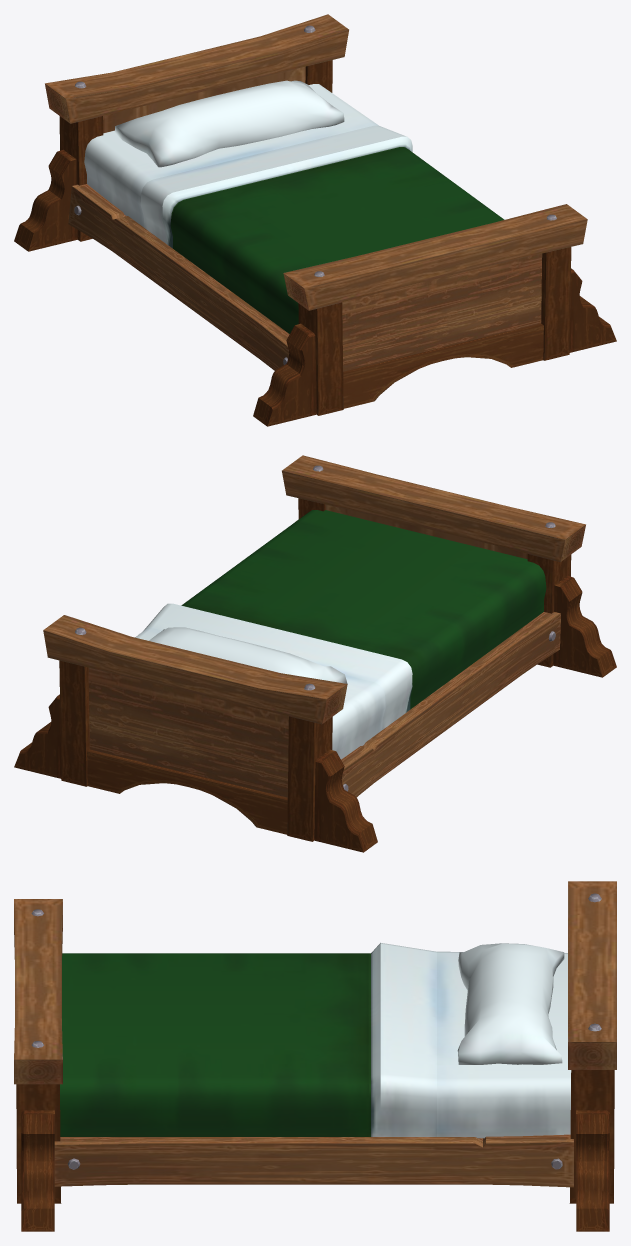
Rendered from Bed_Twin2.gltf.
The picture shows the model from 3 angles, top to bottom: view 1: azimuth 30°, elevation 25°; view 2: azimuth 150°, elevation 25°; view 3: azimuth 270°, elevation 25°; orthographic projection. The views are drawn at different scales.
Parts seen in each view (by area): view 1: Bed_Twin2; view 2: Bed_Twin2; view 3: Bed_Twin2.
Boxes of the visible parts, x1,y1,x2,y2 form: Bed_Twin2: (14,14,616,426); Bed_Twin2: (14,455,616,852); Bed_Twin2: (14,881,616,1231).
Bounding box in the file's own units: 1.88 × 0.7596 × 2.41.
Materials: 3 (3 with a texture image).
